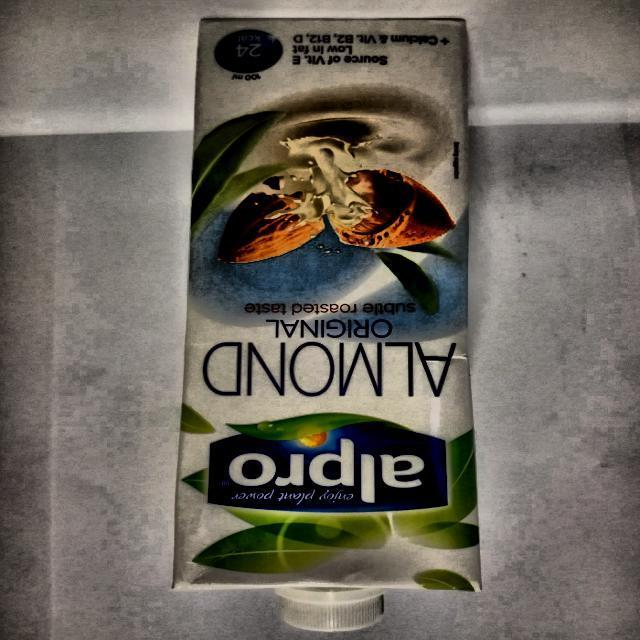cardboard: (173, 18, 483, 596)
